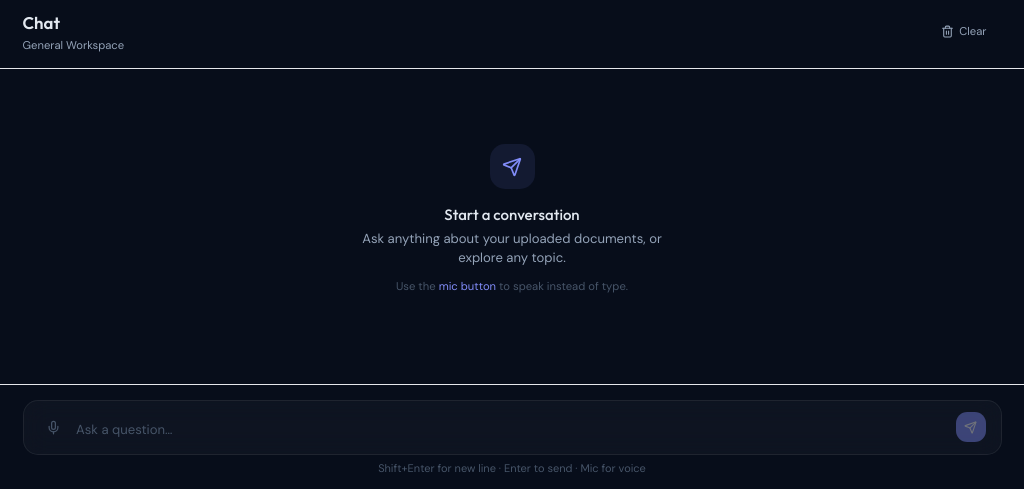
ChatPage › sends a message (optimistic bubble, then the AI response) and posts to /chat
Expected: the text "Start a conversation" is shown, [444,204,580,227]
Type "Explain recursion" into the text box with placeholder "Ask a question…" at (512, 431), box [76,419,948,442]
Then press Enter
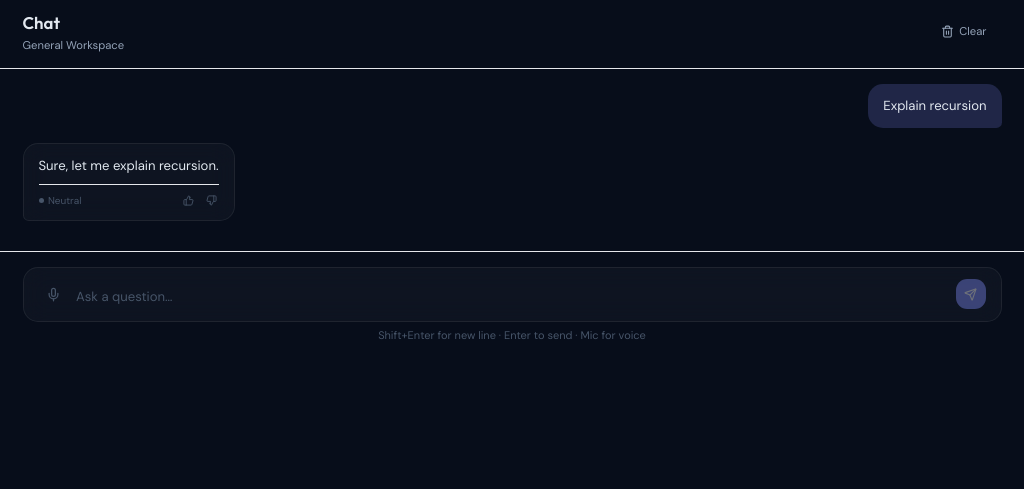
Expected: the text "Explain recursion" is shown, [883,95,986,117]
Expected: the text "Sure, let me explain recursion." is shown, [38,155,218,176]
